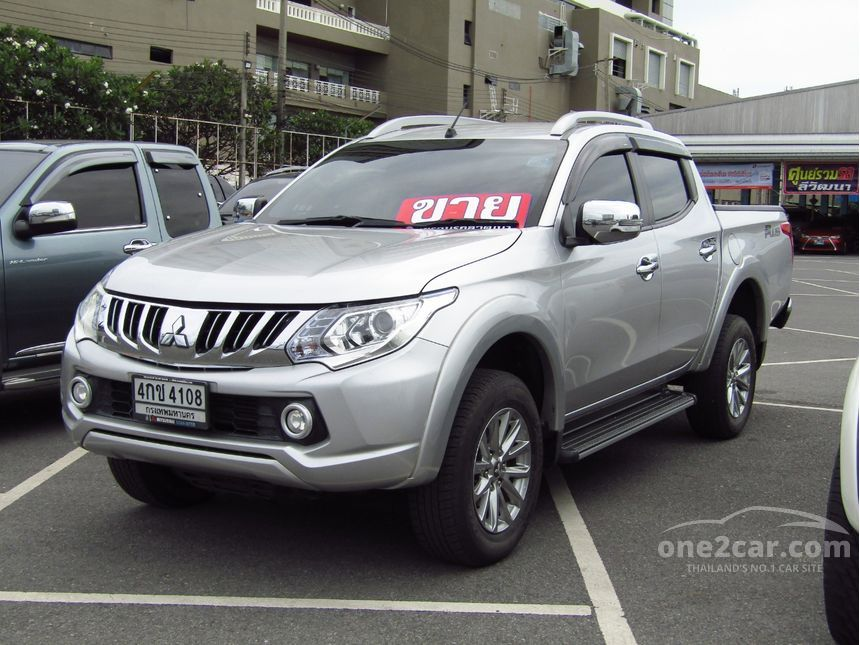pickup: (61, 107, 794, 567)
